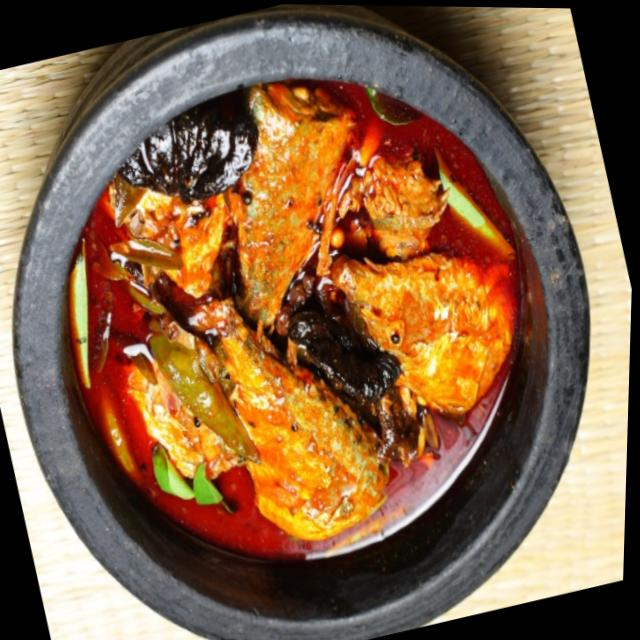FISH CURRY: (69, 81, 520, 552)
